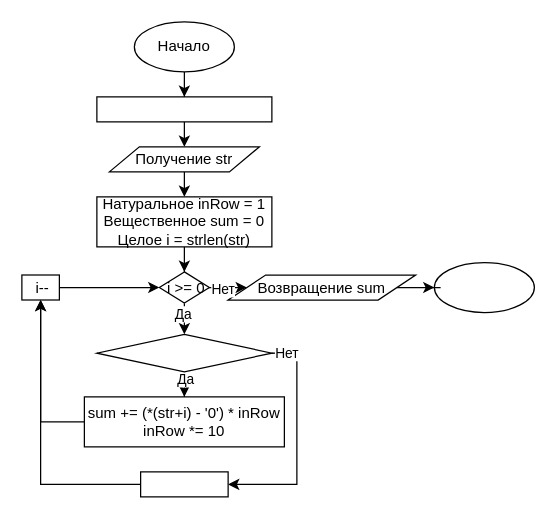
Some shapes in this 556 by 519 pixel diagram are drawn without their labels. Each missing label, with the box of its shape:
inRow = 1: (139, 471, 228, 497)
isnumber(*(str+i)): (96, 333, 272, 372)
Конец: (433, 261, 534, 312)
Строка str: (96, 96, 272, 122)
